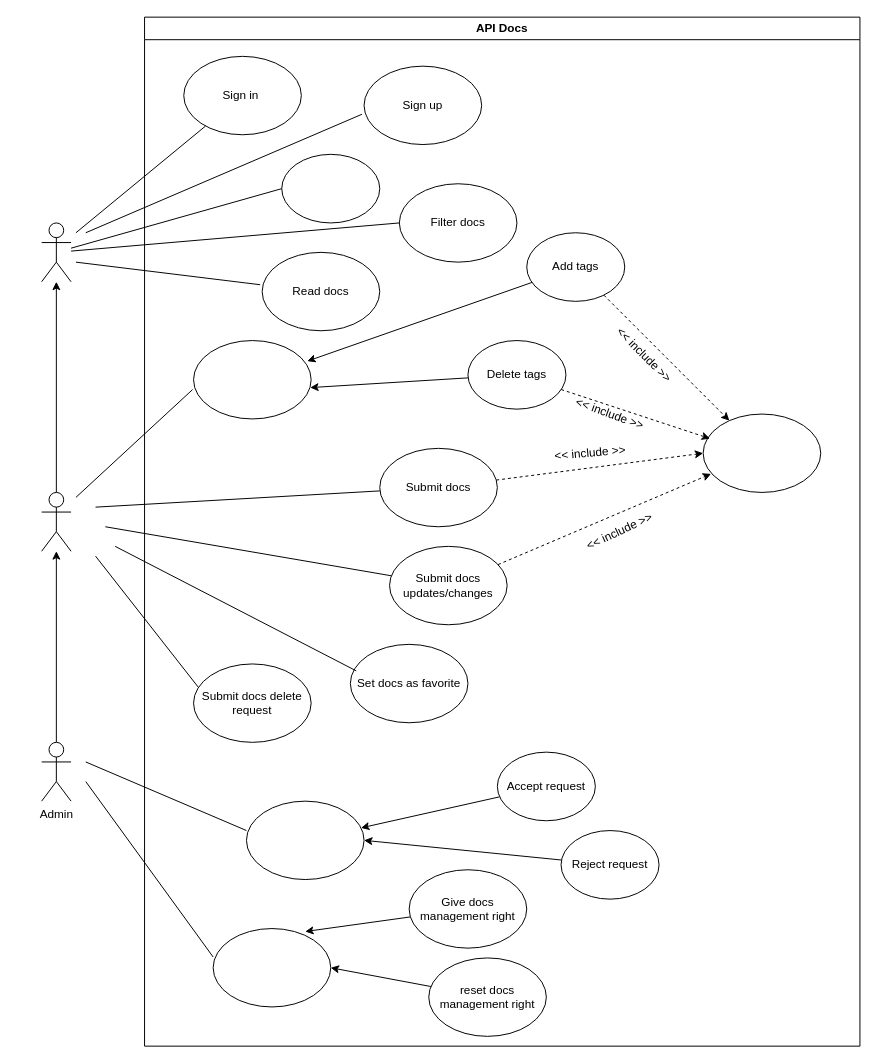
Image size: 877x1063. Some labels were removed from this diagram. The shapes that lost their labels are listed below. From the top down, each one's centre as x and y in pixels, then its label:
[330,188]: Research docs
[56,252]: Anonym User
[252,379]: Maintain tags
[761,452]: Review request
[56,521]: Logged in User
[304,840]: process review requests
[271,967]: Accounts management
